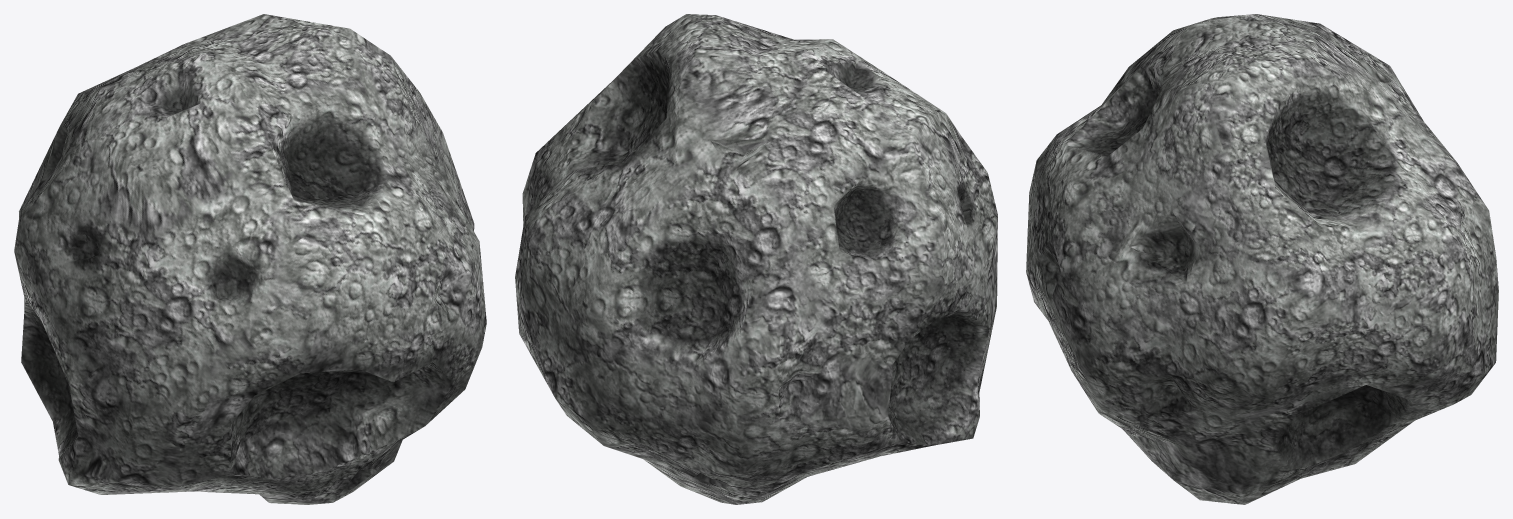
The model's file is asteroid.glb.
3 renders of one model, left to right at view 1: azimuth 30°, elevation 25°; view 2: azimuth 150°, elevation 25°; view 3: azimuth 270°, elevation 25°, orthographic. The views are drawn at different scales.
Visible parts, largest first — view 1: Asteroid Mob 01; view 2: Asteroid Mob 01; view 3: Asteroid Mob 01.
Boxes of the visible parts, box(x1,y1,x2,y2) form: Asteroid Mob 01: box(14, 14, 486, 504); Asteroid Mob 01: box(515, 14, 997, 504); Asteroid Mob 01: box(1026, 14, 1498, 504).
Bounding box in the file's own units: 231 × 236 × 229.
Materials: 1 (1 with a texture image).
